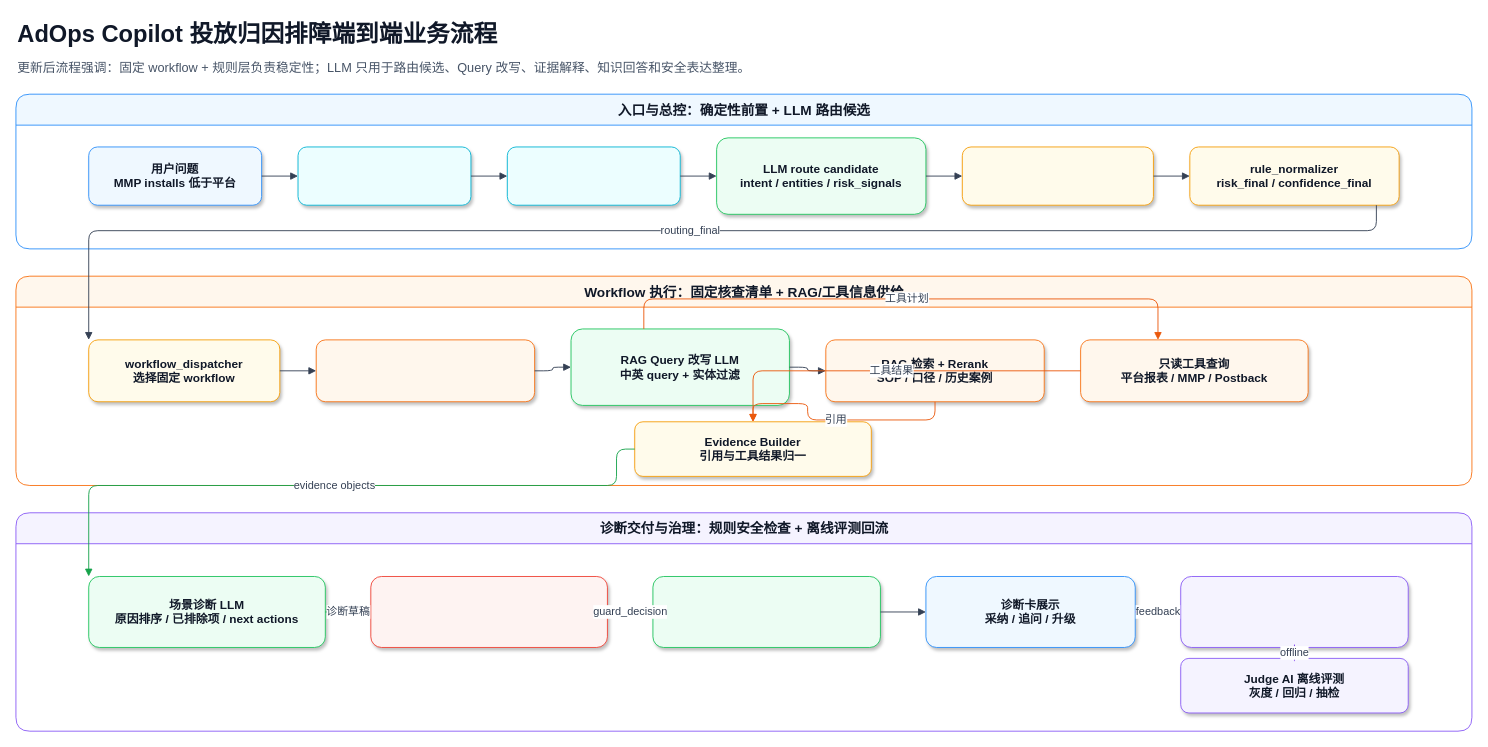
Image size: 1488x747. Some labels were removed from this diagram. Here are the shapes that lost their labels. From the top down, the centre of each, then its label:
At (x=384, y=177): "session_init trace + 页面上下文".
At (x=594, y=177): "pre_guard 登录态 / 权限前置".
At (x=1058, y=177): "schema_guard JSON / enum / tool 白名单".
At (x=426, y=371): "固定核查清单 时区 / 窗口 / event / postback".
At (x=489, y=613): "delivery_guard 规则 越权 / 敏感字段 / 无证据强答".
At (x=767, y=613): "安全交付整理 LLM 内部摘要 / 脱敏表达".
At (x=1295, y=613): "反馈与 Badcase 知识 / Prompt / 工具回流".
